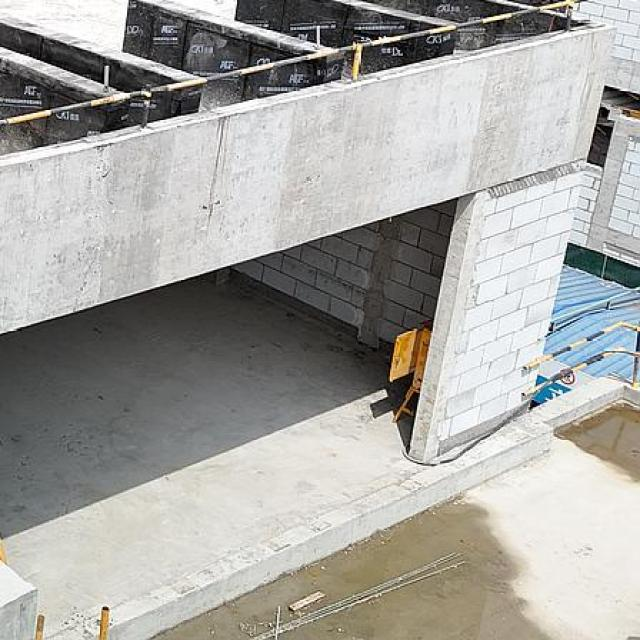edge_guardrail: (0, 0, 590, 130), (520, 320, 640, 399), (611, 103, 640, 118)
